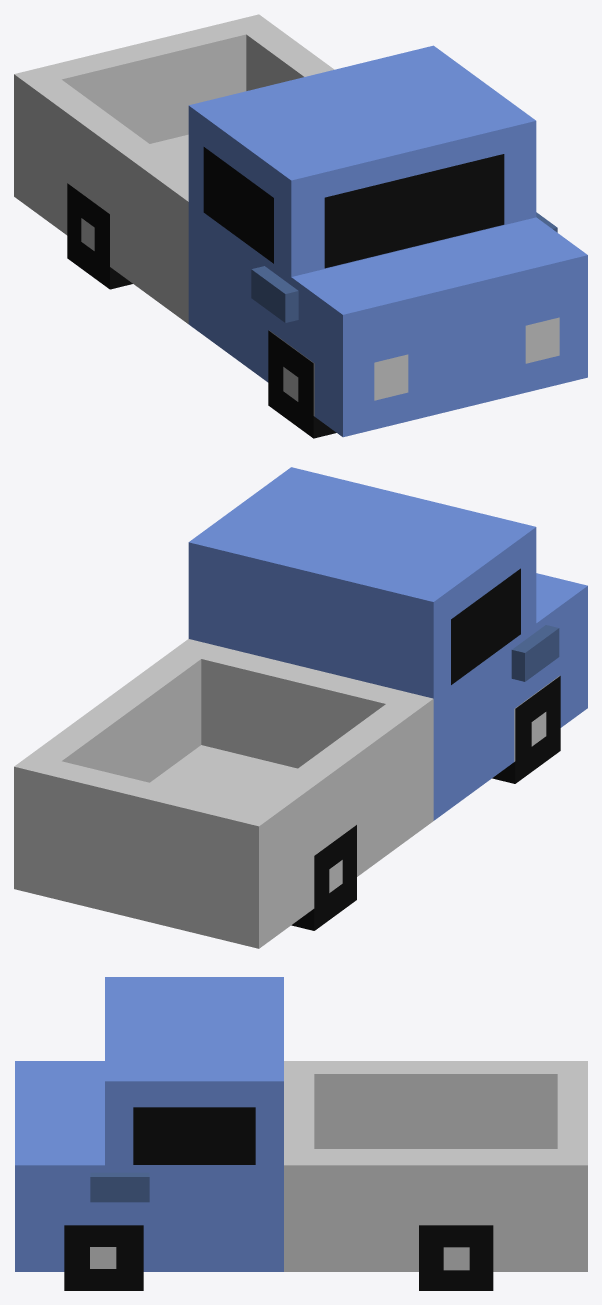
Rendered from car2 (2).fbx.
3 views of the same model, one above another, from view 1: azimuth 30°, elevation 25°; view 2: azimuth 150°, elevation 25°; view 3: azimuth 270°, elevation 25° (orthographic). The views are drawn at different scales.
Visible parts, largest first — view 1: Cube.020; view 2: Cube.020; view 3: Cube.020.
Boxes of the visible parts, x1,y1,x2,y2 form: Cube.020: (14, 14, 587, 438); Cube.020: (14, 467, 587, 948); Cube.020: (15, 977, 587, 1290).
Bounding box in the file's own units: 465 × 393 × 976.
